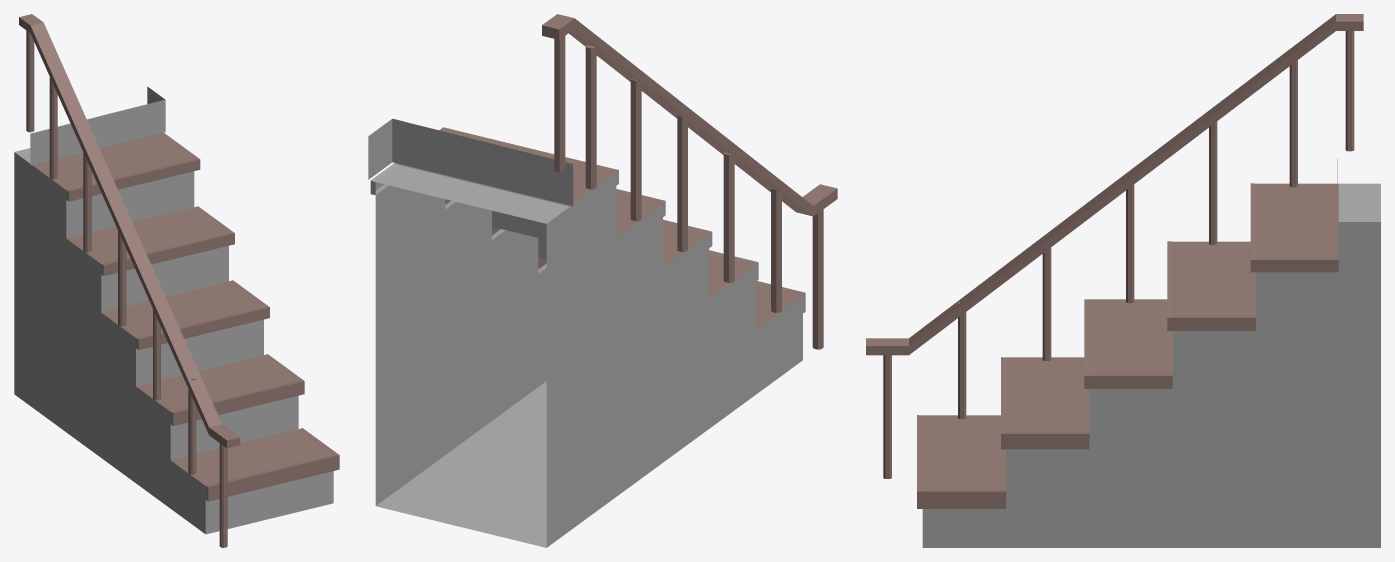
Rendered from Stairs.fbx.
3 views of the same model, side by side, from view 1: azimuth 30°, elevation 25°; view 2: azimuth 150°, elevation 25°; view 3: azimuth 270°, elevation 25° (orthographic). The views are drawn at different scales.
Visible parts, largest first — view 1: stairs; view 2: stairs; view 3: stairs.
Part boxes in pixels (x1=…): stairs: x1=14, y1=14, x2=339, y2=547; stairs: x1=368, y1=14, x2=837, y2=547; stairs: x1=866, y1=14, x2=1380, y2=547.
Size of the model in its own units: 280 by 769 by 758.
